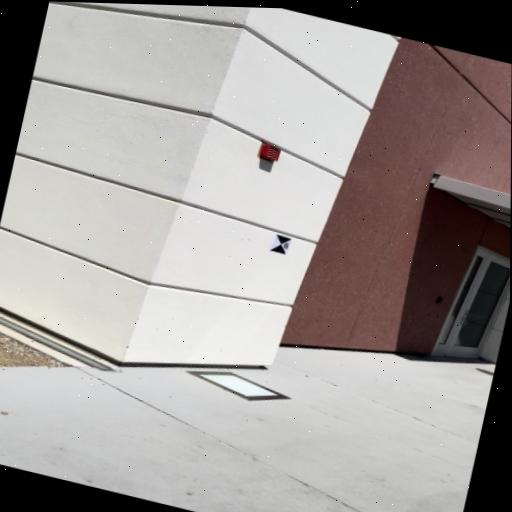target6: (270, 233, 291, 255)
